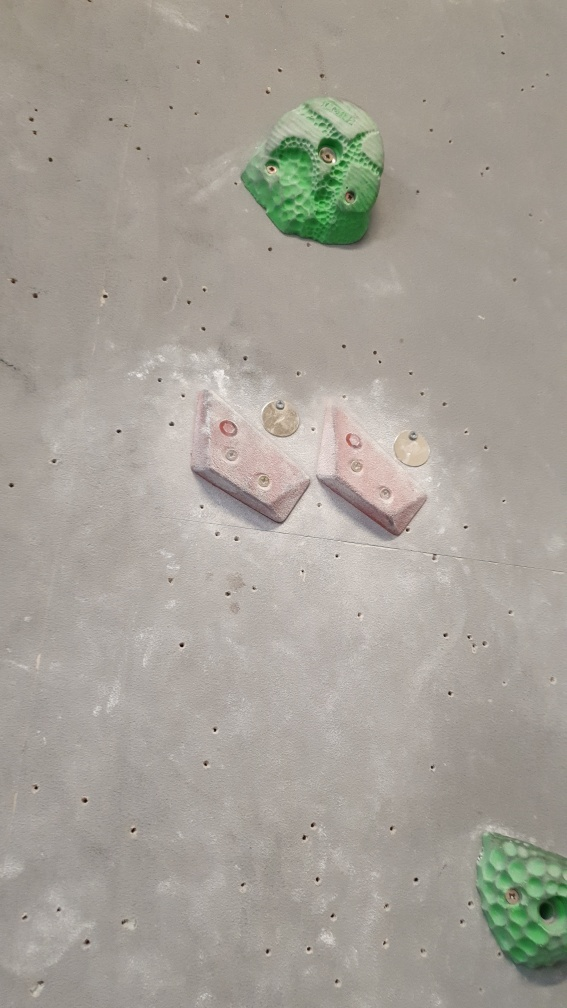Crimp: (188, 384, 312, 525), (319, 395, 427, 535)
Hand Start: (392, 423, 433, 474), (259, 395, 303, 439)
Jug: (246, 94, 385, 247)
